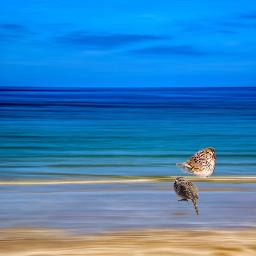Sparrow: (176, 147, 216, 178), (173, 176, 199, 216)
